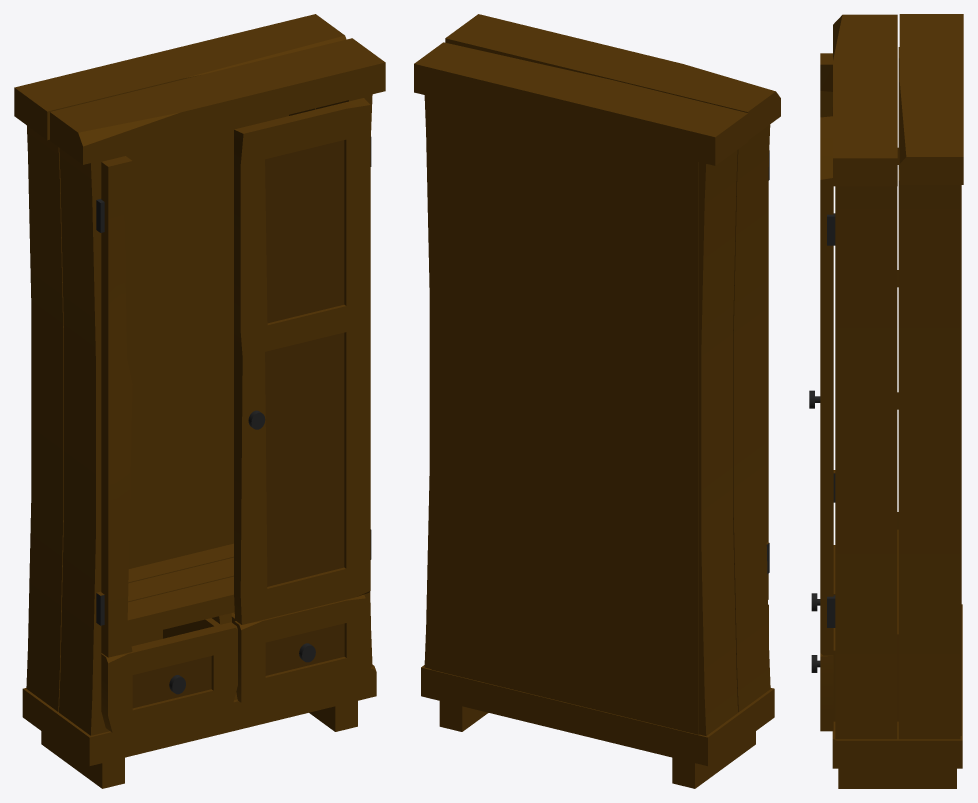
File: LargeCabinetBroken.fbx
3 renders of one model, left to right at view 1: azimuth 30°, elevation 25°; view 2: azimuth 150°, elevation 25°; view 3: azimuth 270°, elevation 25°, orthographic. The views are drawn at different scales.
Parts seen in each view (by area): view 1: Furniture_Cabinet.002, Furniture_Door1.002, Furniture_Door2.002, Furniture_03_DoorSmall1.002, Furniture_03_DoorSmall2.002; view 2: Furniture_Cabinet.002, Furniture_Door2.002; view 3: Furniture_Cabinet.002, Furniture_Door1.002, Furniture_03_DoorSmall2.002, Furniture_Door2.002, Furniture_03_DoorSmall1.002.
Boxes of the visible parts, x1=… form: Furniture_Cabinet.002: x1=14, y1=14, x2=385, y2=788; Furniture_Door1.002: x1=234, y1=98, x2=370, y2=624; Furniture_Door2.002: x1=101, y1=156, x2=132, y2=657; Furniture_03_DoorSmall1.002: x1=101, y1=618, x2=237, y2=732; Furniture_03_DoorSmall2.002: x1=231, y1=594, x2=370, y2=702; Furniture_Cabinet.002: x1=414, y1=14, x2=780, y2=788; Furniture_Door2.002: x1=765, y1=182, x2=768, y2=599; Furniture_Cabinet.002: x1=827, y1=14, x2=963, y2=788; Furniture_Door1.002: x1=809, y1=116, x2=833, y2=655; Furniture_03_DoorSmall2.002: x1=811, y1=628, x2=898, y2=731; Furniture_Door2.002: x1=820, y1=53, x2=832, y2=117; Furniture_03_DoorSmall1.002: x1=811, y1=545, x2=835, y2=611.
Bounding box in the file's own units: 129 × 267 × 58.08.
